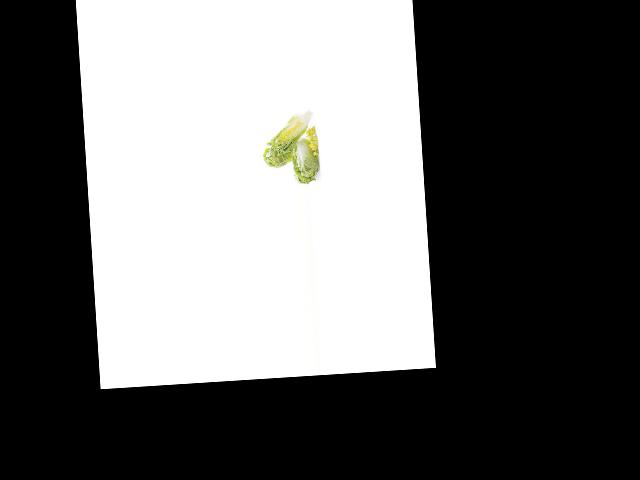lettuce: (288, 131, 322, 183)
